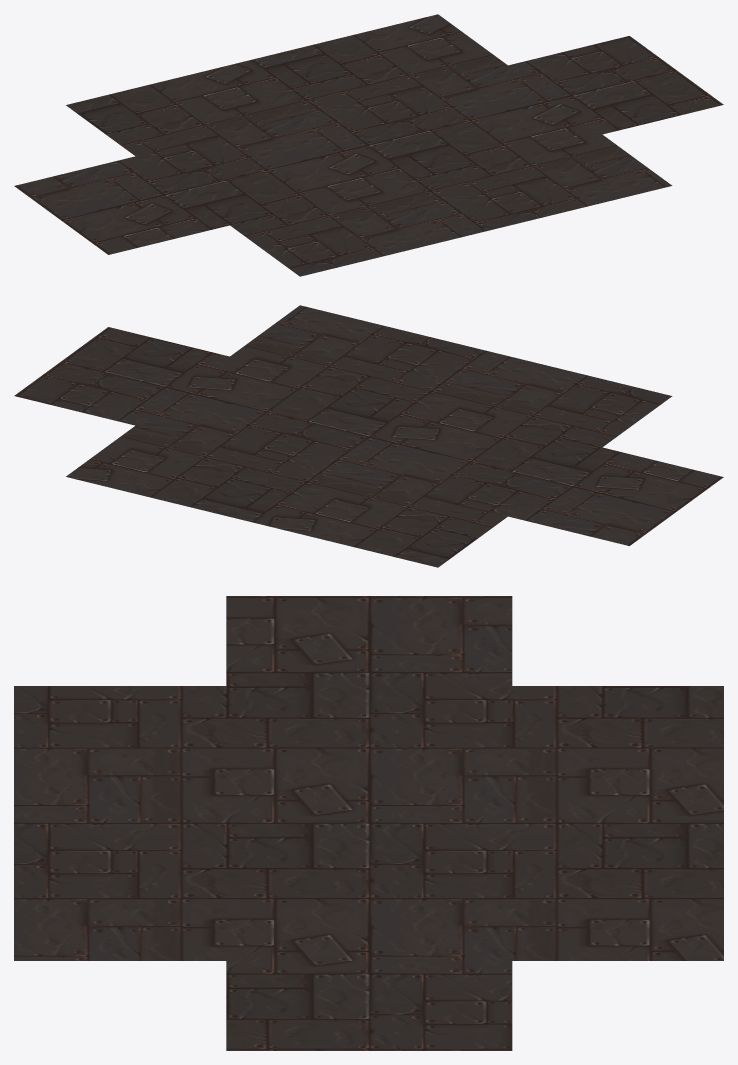
Rendered from sn_jixie_pingtai_002.FBX.
3 views of the same model, one above another, from view 1: azimuth 30°, elevation 25°; view 2: azimuth 150°, elevation 25°; view 3: azimuth 270°, elevation 25° (orthographic). The views are drawn at different scales.
Parts seen in each view (by area): view 1: sn_jixie_pingtai_002; view 2: sn_jixie_pingtai_002; view 3: sn_jixie_pingtai_002.
Part boxes in pixels (x1,y1,x2,y2): sn_jixie_pingtai_002: (14, 14, 723, 276); sn_jixie_pingtai_002: (14, 305, 723, 567); sn_jixie_pingtai_002: (14, 596, 723, 1050).
Size of the model in its own units: 71.44 by 47.12 by 1.91e-06.
